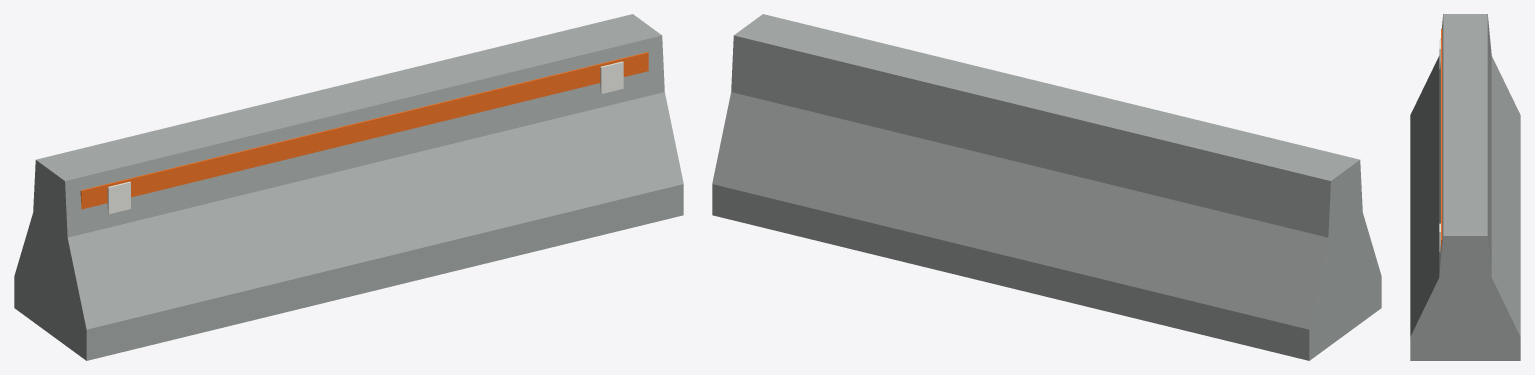
The model's file is concrete_barrier_papaya.glb.
3 views of the same model, side by side, from view 1: azimuth 30°, elevation 25°; view 2: azimuth 150°, elevation 25°; view 3: azimuth 270°, elevation 25° (orthographic). The views are drawn at different scales.
Parts seen in each view (by area): view 1: concrete_barrier_papaya__static; view 2: concrete_barrier_papaya__static; view 3: concrete_barrier_papaya__static.
Boxes of the visible parts, left/top/right/bottom form: concrete_barrier_papaya__static: left=14, top=14, right=683, bottom=360; concrete_barrier_papaya__static: left=712, top=14, right=1381, bottom=360; concrete_barrier_papaya__static: left=1410, top=14, right=1520, bottom=360.
Bounding box in the file's own units: 4 × 1.05 × 0.84.
